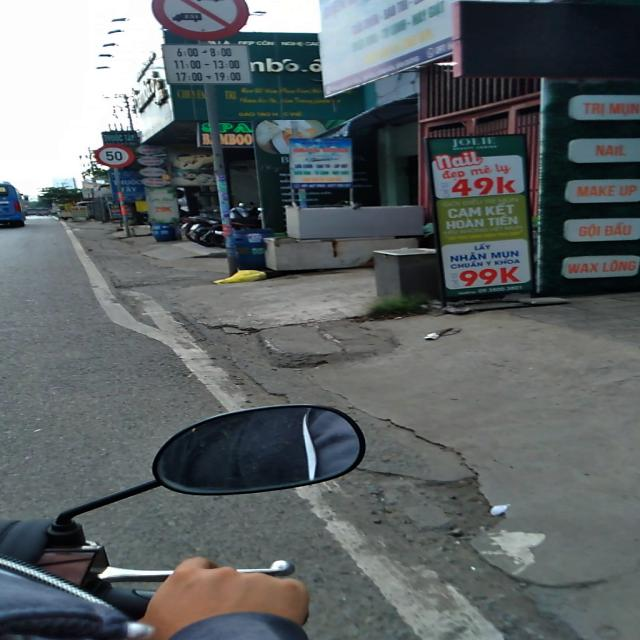Toc do toi da: (94, 144, 135, 168)
